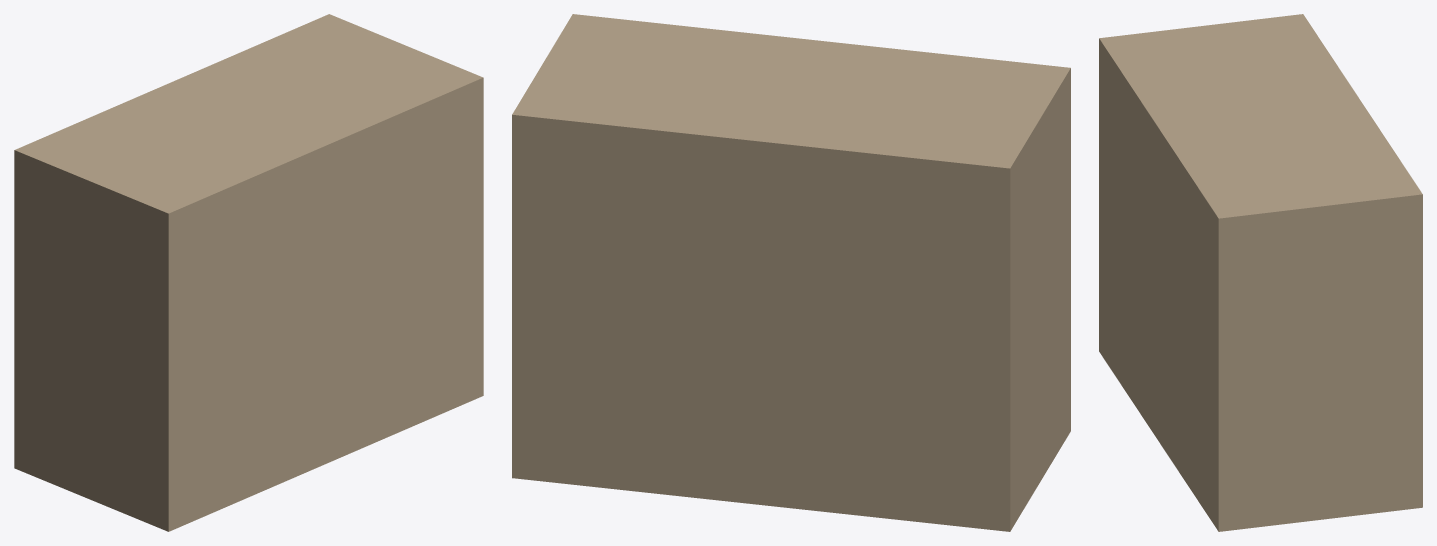
Rendered from bld_164606060.dae.
3 views of the same model, side by side, from view 1: azimuth 30°, elevation 25°; view 2: azimuth 150°, elevation 25°; view 3: azimuth 270°, elevation 25° (orthographic). The views are drawn at different scales.
Visible parts, largest first — view 1: bld_164606060; view 2: bld_164606060; view 3: bld_164606060.
Part boxes in pixels (x1,y1,x2,y2): bld_164606060: [14, 14, 483, 531]; bld_164606060: [512, 14, 1070, 531]; bld_164606060: [1099, 14, 1422, 531].
Size of the model in its own units: 11.21 by 7.49 by 8.
